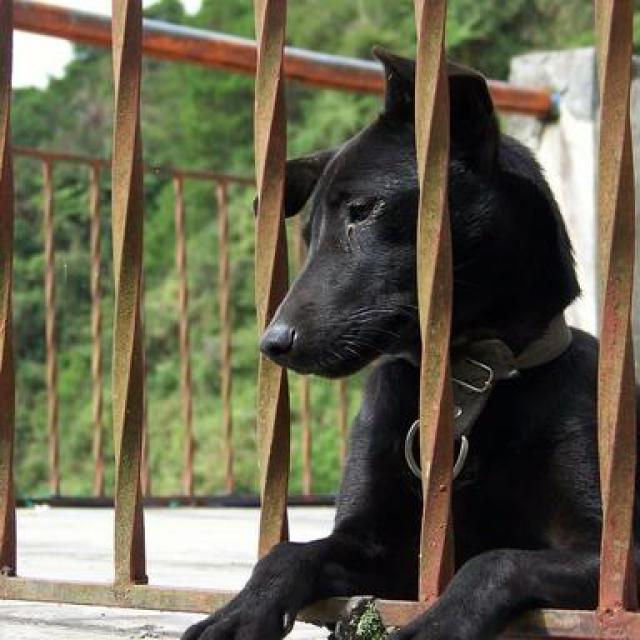sad: (198, 85, 640, 640)
